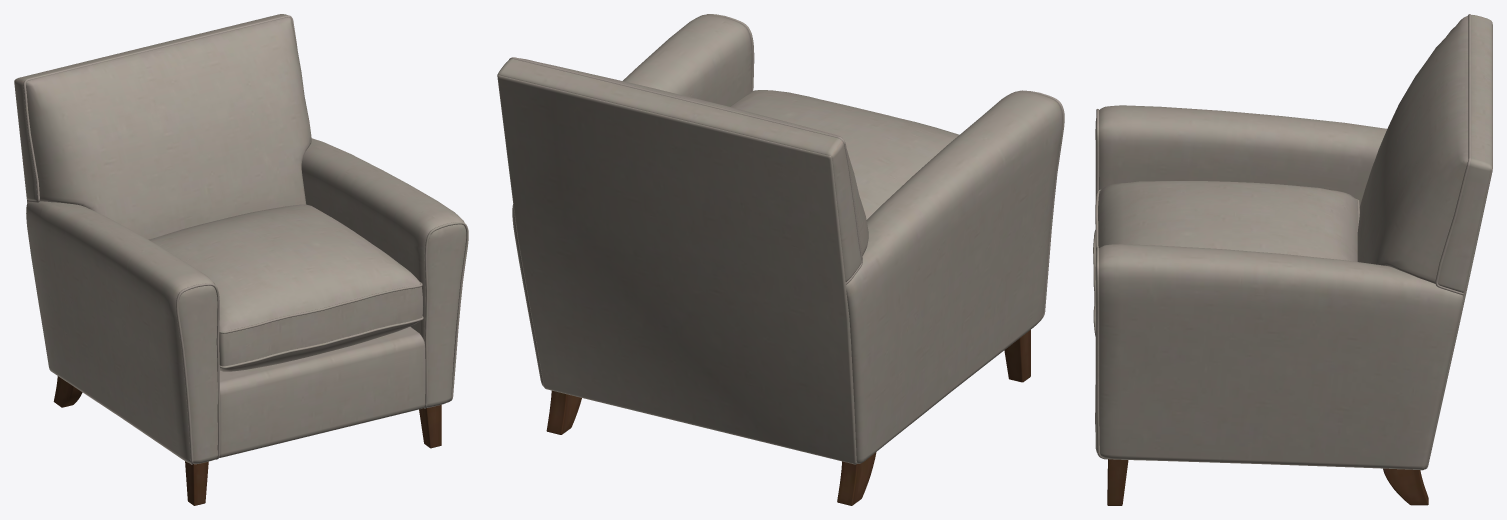
3 views of the same model, side by side, from view 1: azimuth 30°, elevation 25°; view 2: azimuth 150°, elevation 25°; view 3: azimuth 270°, elevation 25° (orthographic). The views are drawn at different scales.
Parts seen in each view (by area): view 1: RootNode; view 2: RootNode; view 3: RootNode.
Part boxes in pixels (bbox=[...]): RootNode: bbox=[14, 14, 468, 505]; RootNode: bbox=[497, 14, 1064, 505]; RootNode: bbox=[1093, 14, 1492, 505].
Size of the model in its own units: 0.8396 by 0.8461 by 0.8707.
Materials: 1 (1 with a texture image).
